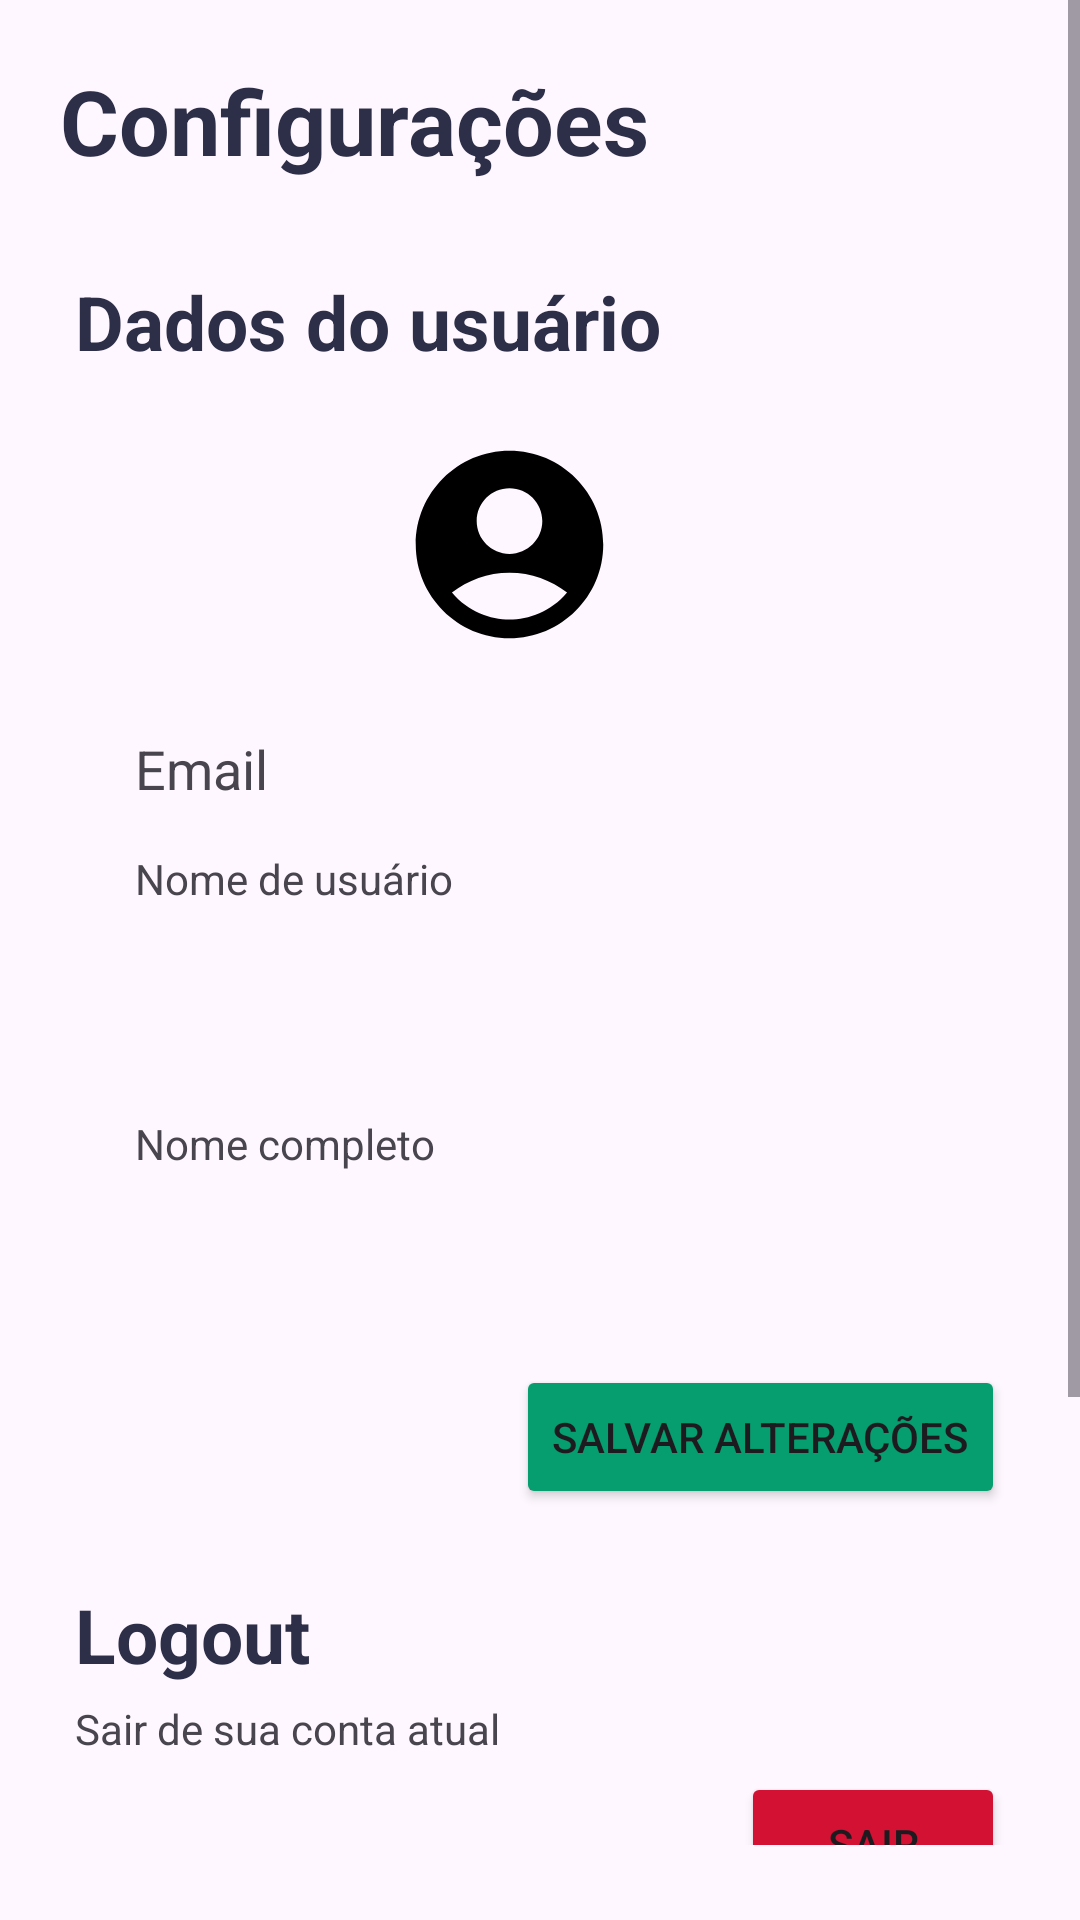

Named icons in this screenshot (1080 x 1920) and their bounding boxes, (x1, y1, x2, y2):
account circle: (415, 450, 604, 639)
